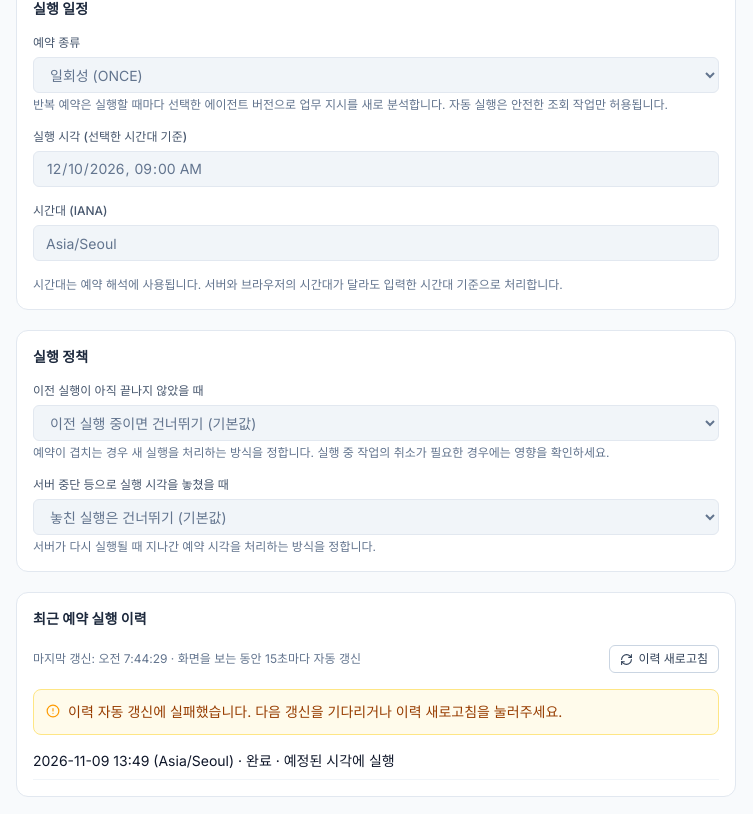
Test case: Schedule live management › preserves previous detail history on polling failure and recovers by manual history refresh
(page scrolled)
Expected: the text "2026-11-09 13:49 (Asia/Seoul) · 완료 · 예정된 시각에 실행" is shown, 33,751 -> 395,771
Expected: the text "이력 자동 갱신에 실패했습니다. 다음 갱신을 기다리거나 이력 새로고침을 눌러주세요." is shown, 68,702 -> 562,722
What coordinates should you click on to do the following:
click the button "이력 새로고침"
I would click on:
 (664, 659)
Its box is 608,645 -> 719,673.
(page scrolled)
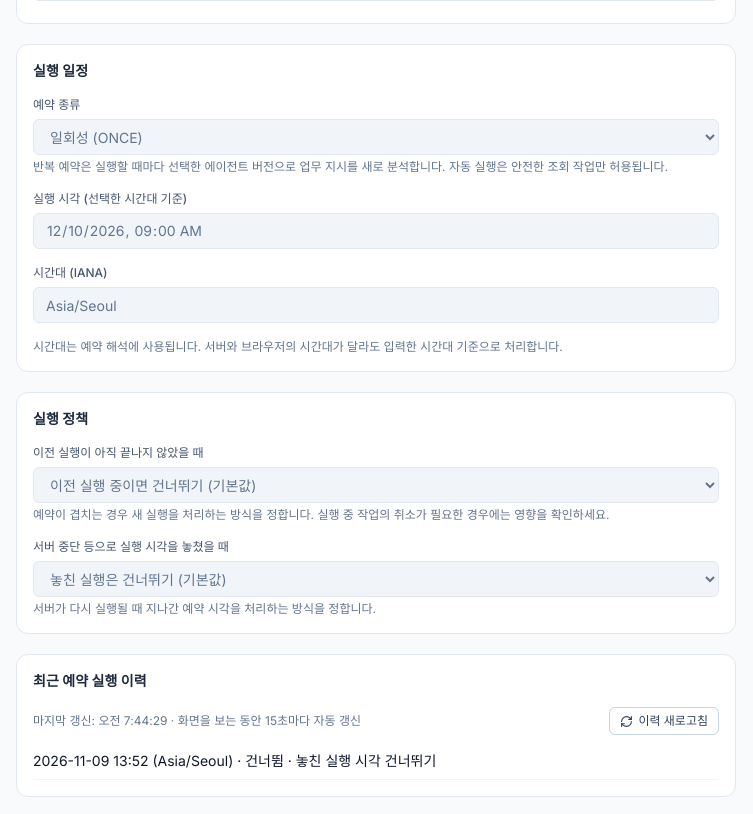
Result: the text "2026-11-09 13:52 (Asia/Seoul) · 건너뜀 · 놓친 실행 시각 건너뛰기" is shown at 33,751 -> 436,771
Result: the text "이력 자동 갱신에 실패했습니다" is gone
